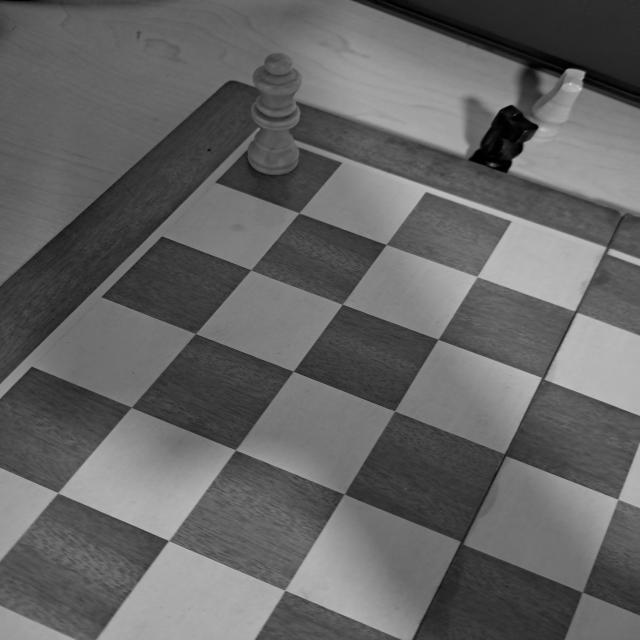chess-table-corners: (222, 100, 310, 166)
